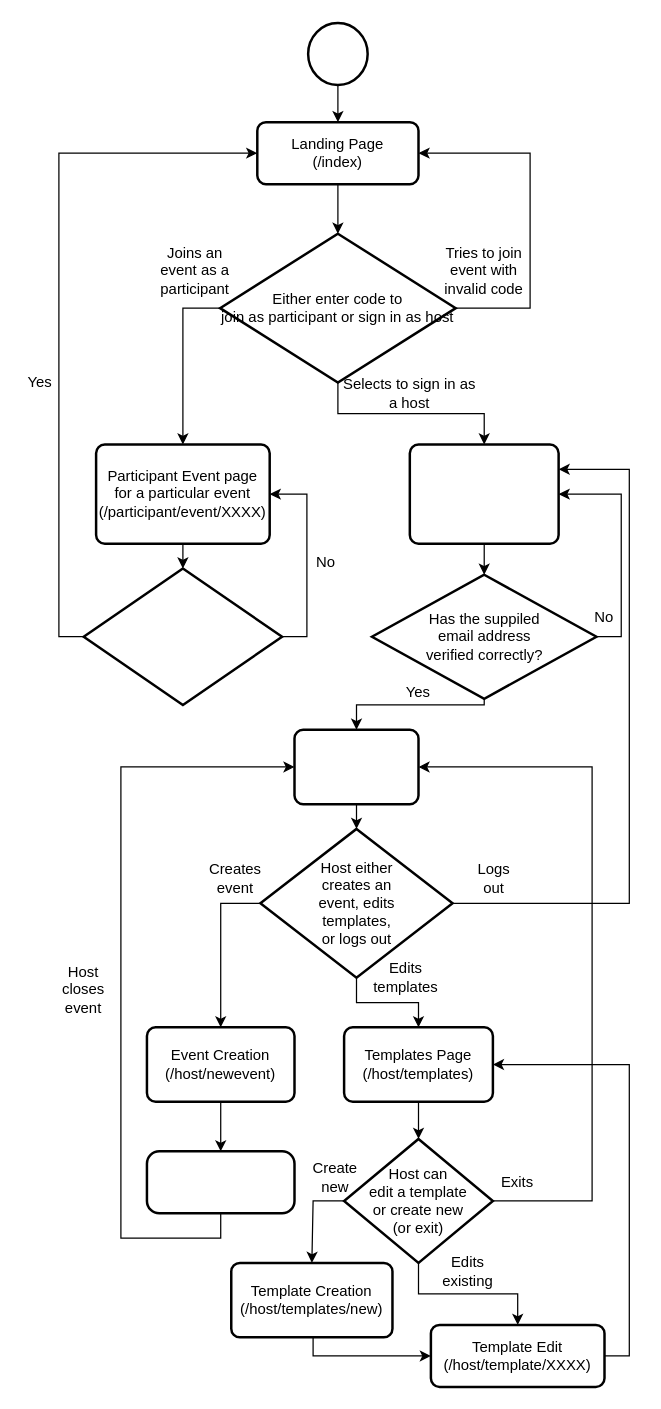
The diagram is 661 pixels wide and 1409 high, and some of its shapes have lost their labels. Here are the shapes that lost their labels. From the top down, the box of each, then its label:
(306, 21, 368, 86): Start
(408, 443, 559, 544): Host Login - user supplies an email address (/host/login)
(82, 567, 283, 706): Does the event end, or does the user choose to leave it?
(293, 728, 419, 805): Host Landing Page (/host/home)
(145, 1149, 295, 1214): Host Event Page (/host/event/XXXX)
